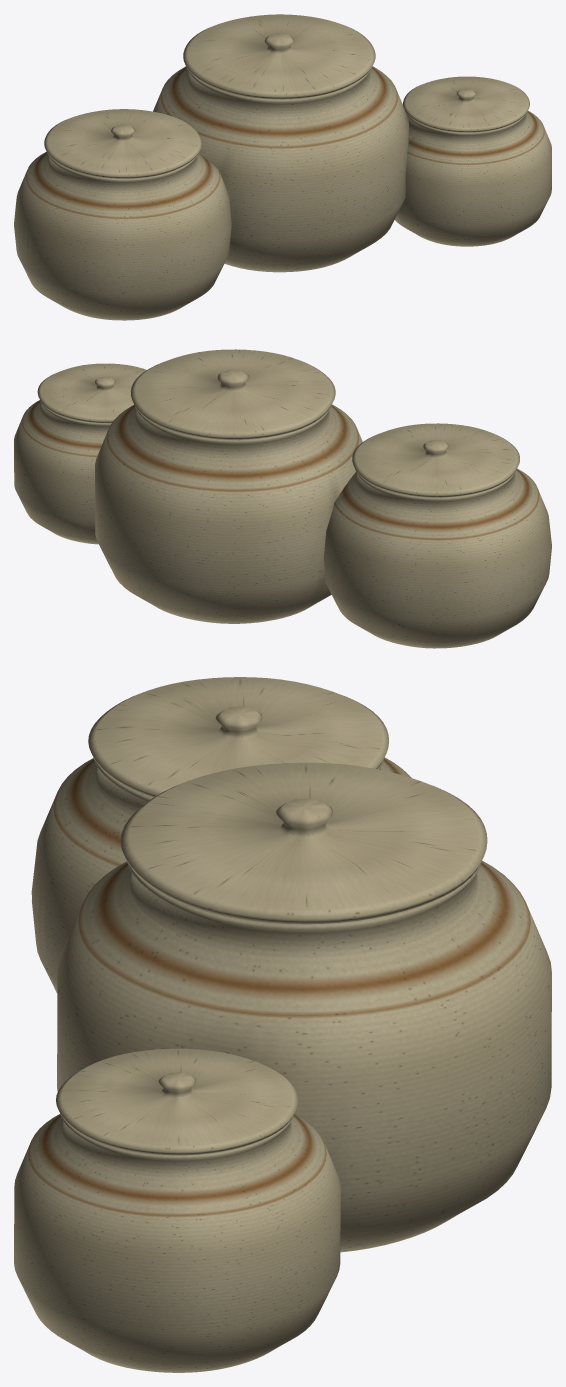
3 renders of one model, top to bottom at view 1: azimuth 30°, elevation 25°; view 2: azimuth 150°, elevation 25°; view 3: azimuth 270°, elevation 25°, orthographic. The views are drawn at different scales.
Parts seen in each view (by area): view 1: jar 2, jar 1.001, jar 3, jar 2 lid, jar 1 lid.001, jar 3 lid; view 2: jar 2, jar 1.001, jar 2 lid, jar 1 lid.001, jar 3, jar 3 lid; view 3: jar 2, jar 3, jar 2 lid, jar 1 lid.001, jar 3 lid, jar 1.001.
Part boxes in pixels (x1,y1,x2,y2): jar 2: (153, 66, 408, 272); jar 1.001: (14, 152, 231, 320); jar 3: (394, 111, 551, 246); jar 2 lid: (183, 14, 375, 99); jar 1 lid.001: (44, 109, 201, 178); jar 3 lid: (403, 76, 529, 132); jar 2: (95, 404, 362, 623); jar 1.001: (324, 468, 551, 648); jar 2 lid: (131, 349, 335, 439); jar 1 lid.001: (352, 423, 519, 497); jar 3: (14, 400, 111, 544); jar 3 lid: (37, 363, 146, 422); jar 2: (57, 860, 551, 1252); jar 3: (14, 1113, 340, 1372); jar 2 lid: (120, 762, 487, 924); jar 1 lid.001: (88, 677, 388, 797); jar 3 lid: (56, 1048, 297, 1155); jar 1.001: (31, 757, 411, 993).
Size of the model in its own units: 3 by 1.15 by 1.48.
2 materials, 1 textured.
